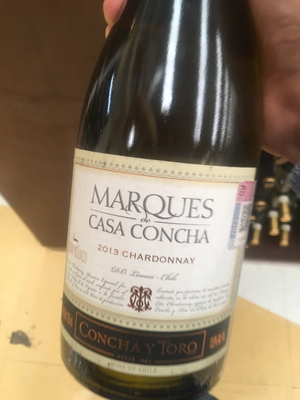marques de casa concha chardonnay: (65, 22, 276, 397)
